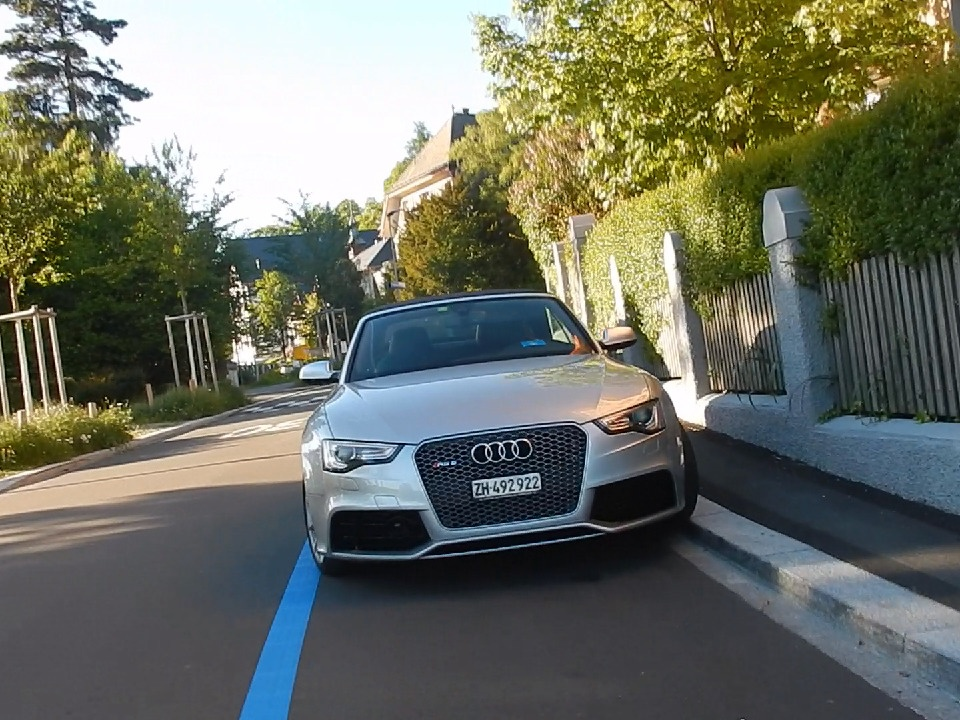car: (282, 279, 722, 595)
